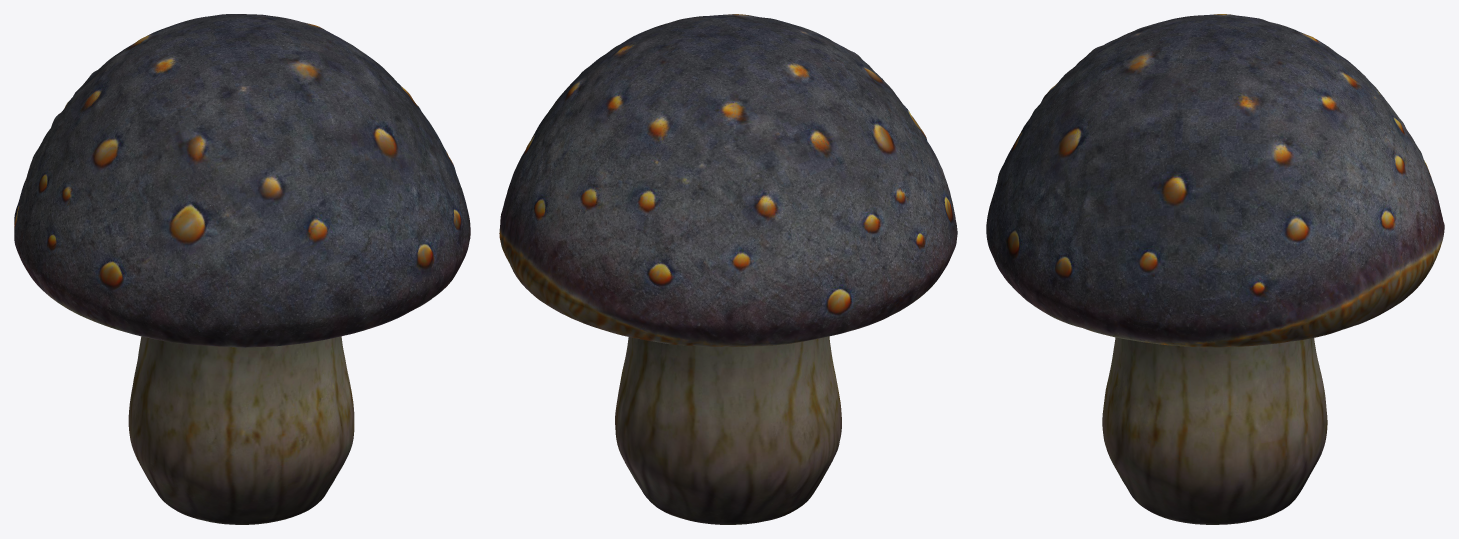
The model's file is 8e6c130d12e5_Create_a_3D_low_pol.fbx.
3 views of the same model, side by side, from view 1: azimuth 30°, elevation 25°; view 2: azimuth 150°, elevation 25°; view 3: azimuth 270°, elevation 25° (orthographic).
Visible parts, largest first — view 1: high_poly; view 2: high_poly; view 3: high_poly.
Boxes of the visible parts, x1=… form: high_poly: x1=14, y1=14, x2=470, y2=524; high_poly: x1=499, y1=14, x2=957, y2=524; high_poly: x1=986, y1=14, x2=1444, y2=524.
Bounding box in the file's own units: 91.04 × 100 × 91.06.
